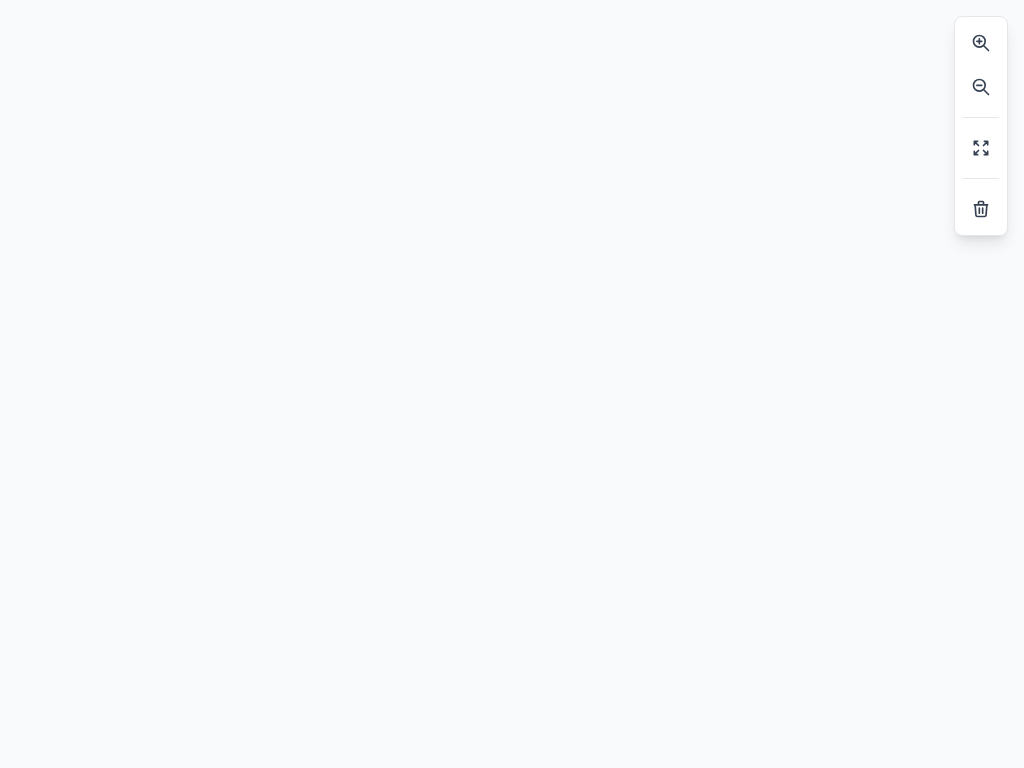
Test: CanvasControls › should show confirmation modal when clear button is clicked
The image size is (1024, 768).
What coordinates should you click on to do the following:
click the button named "Clear Workflow"
I would click on:
 (981, 209)
Its box is [963,191,999,227].
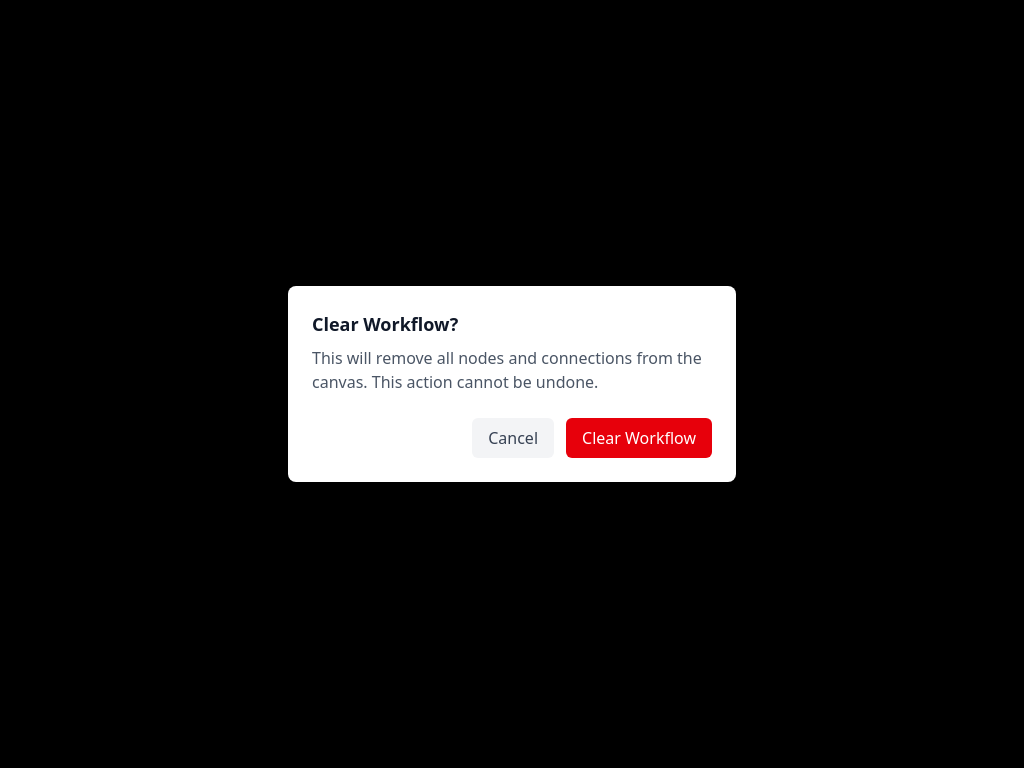
Expected: the heading "Clear Workflow?" is shown, [312,312,458,336]
Expected: the text "This will remove all nodes and connections" is shown, [312,347,702,393]
